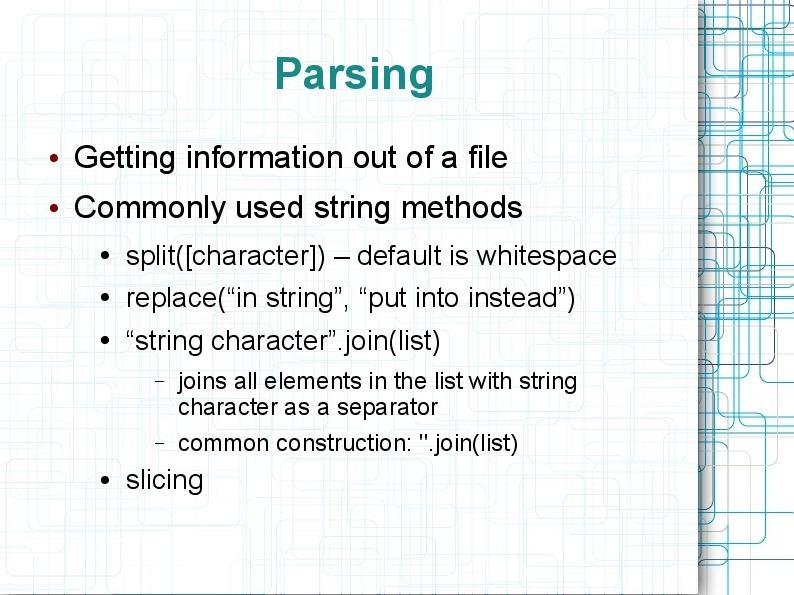paragraph: (36, 128, 668, 531)
title: (268, 42, 441, 112)
